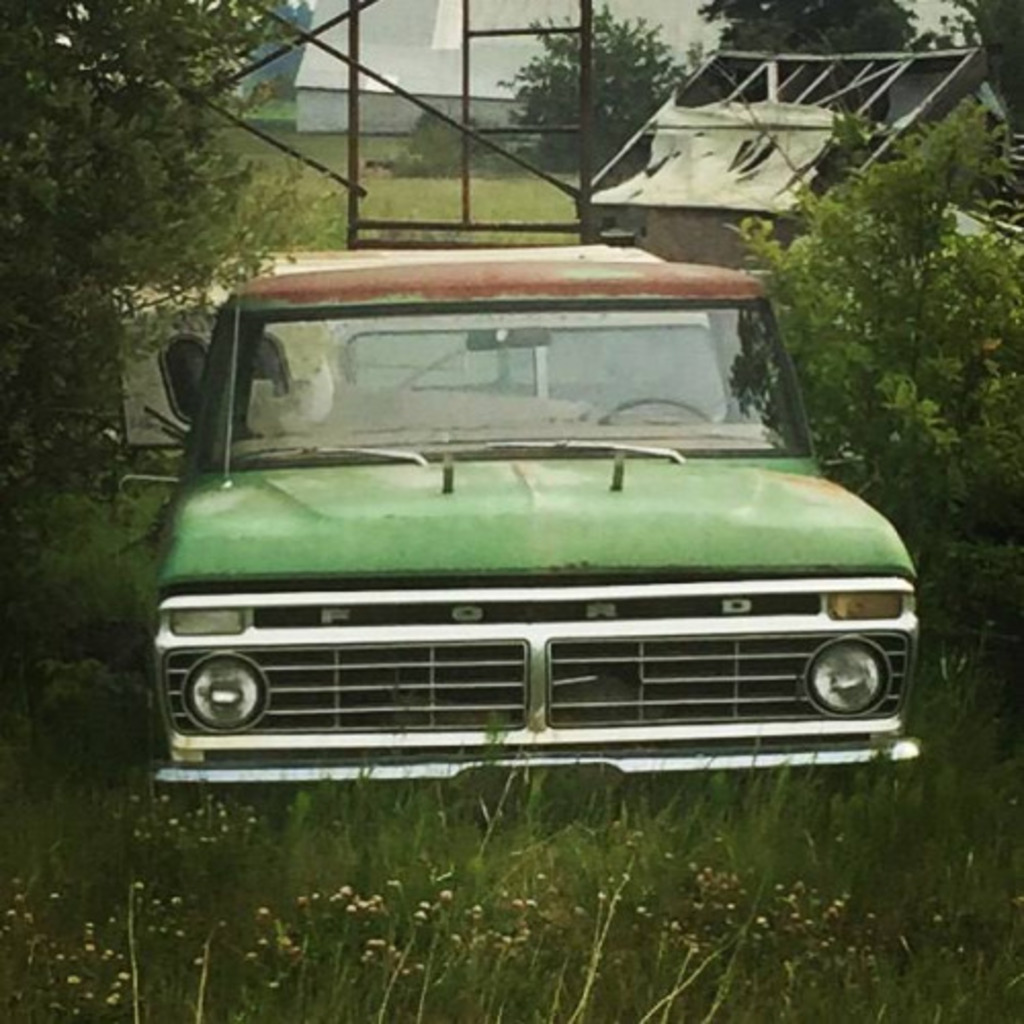Car: (139, 256, 925, 788)
